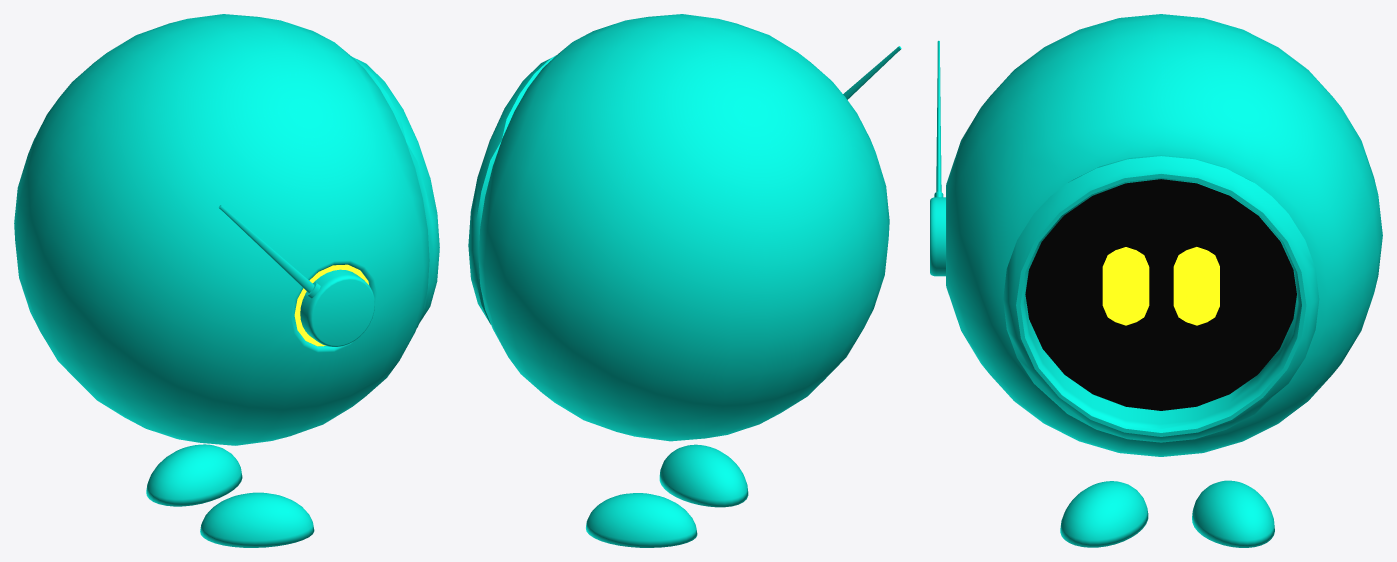
File: cute_robot-transformed.glb
3 views of the same model, side by side, from view 1: azimuth 30°, elevation 25°; view 2: azimuth 150°, elevation 25°; view 3: azimuth 270°, elevation 25° (orthographic). The views are drawn at different scales.
Visible parts, largest first — view 1: Object_4, Object_5; view 2: Object_4; view 3: Object_4, Object_6, mesh_2, mesh_3.
Part boxes in pixels (x1,y1,x2,y2): Object_4: [14, 14, 439, 547]; Object_5: [294, 264, 368, 346]; Object_4: [468, 14, 901, 547]; Object_4: [930, 14, 1382, 547]; Object_6: [1025, 179, 1296, 410]; mesh_2: [1102, 247, 1149, 325]; mesh_3: [1173, 247, 1219, 325].
Size of the model in its own units: 1.5 by 2.09 by 1.75.
5 materials, 5 textured.
